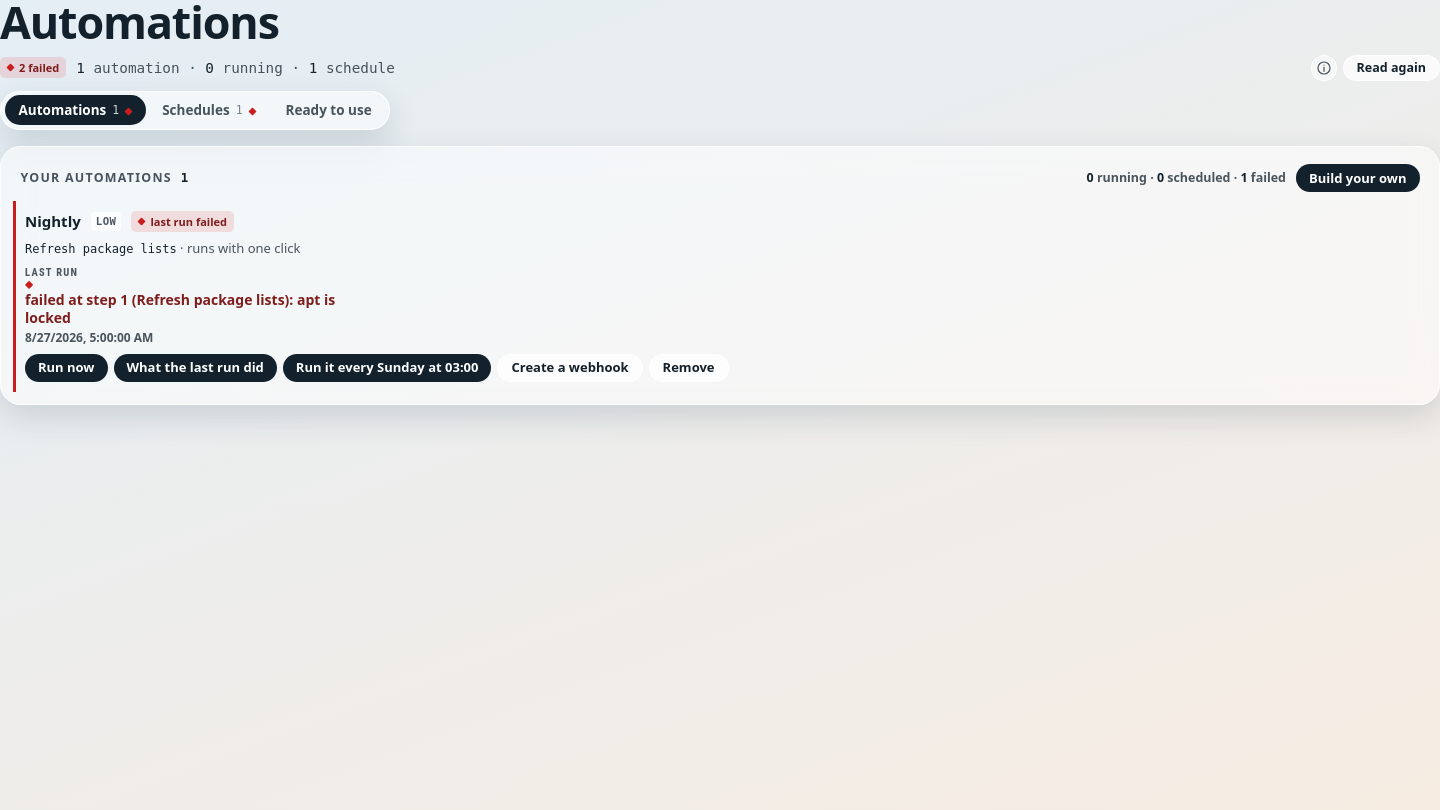
it: Automations page › says first whether anything failed, then the counts, with the automations in the first tab
The image size is (1440, 810).
Expected: the heading "Nightly" is shown, [25, 212, 81, 231]
Expected: the heading "Automations" is shown, [0, 0, 279, 49]
# The schedules have their own tab, which says one failed.
Click the tab "Schedules 1".
click(209, 110)  # box [148, 95, 270, 125]
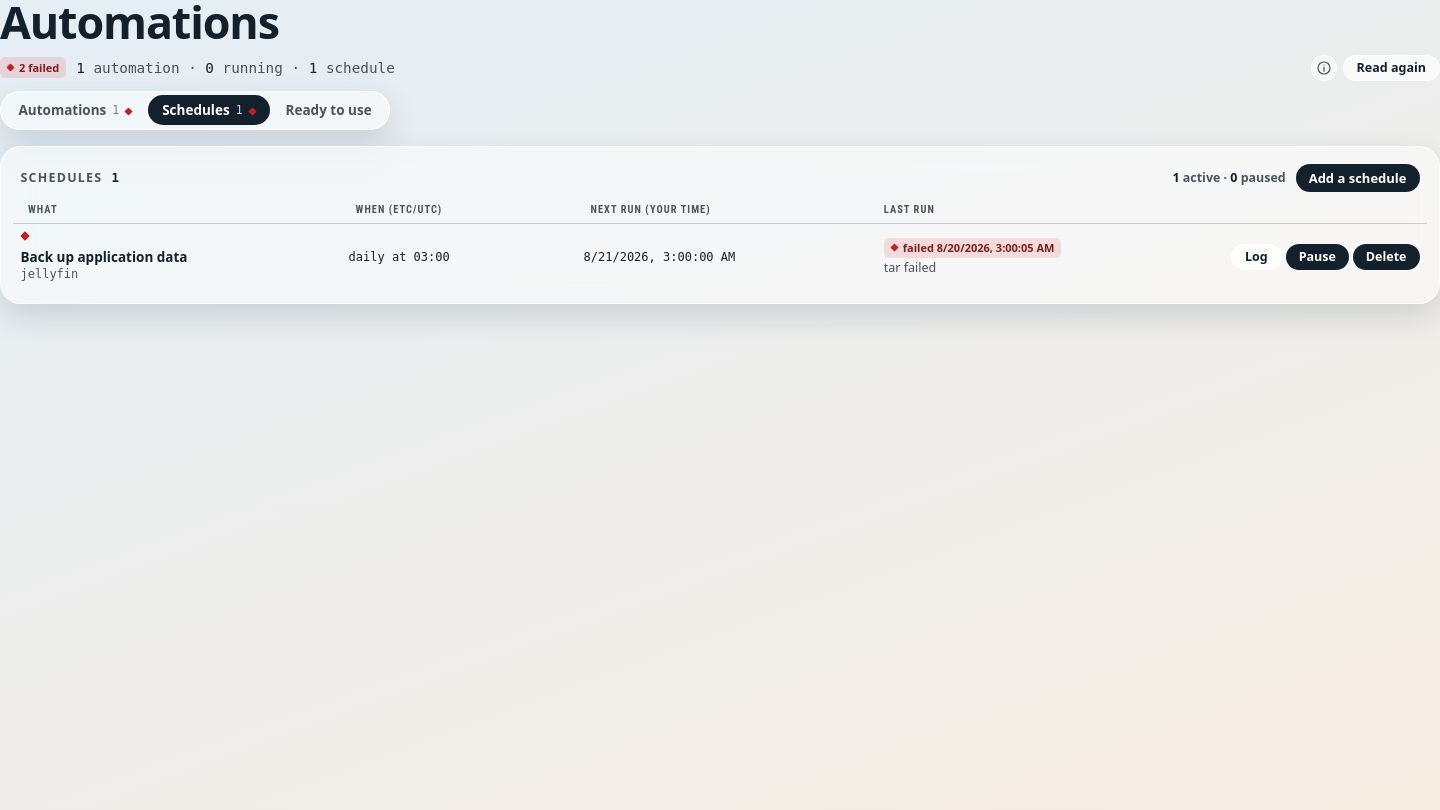
Result: the text "daily at 03:00" is shown at [341, 224, 576, 291]
Result: the text "tar failed" is shown at [884, 259, 936, 276]
